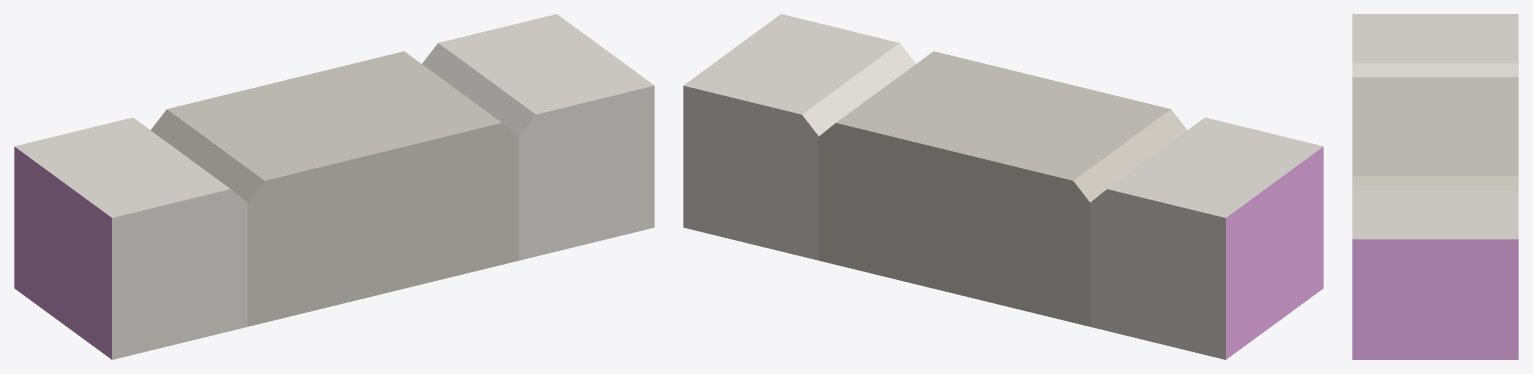
The model's file is Path_Edging_Stones_Straight_1x1.glb.
3 renders of one model, left to right at view 1: azimuth 30°, elevation 25°; view 2: azimuth 150°, elevation 25°; view 3: azimuth 270°, elevation 25°, orthographic. The views are drawn at different scales.
Visible parts, largest first — view 1: Path_Edging_Stones_Straight_1x1; view 2: Path_Edging_Stones_Straight_1x1; view 3: Path_Edging_Stones_Straight_1x1.
Part boxes in pixels (x1,y1,x2,y2): Path_Edging_Stones_Straight_1x1: [14, 14, 654, 359]; Path_Edging_Stones_Straight_1x1: [683, 14, 1323, 359]; Path_Edging_Stones_Straight_1x1: [1352, 14, 1518, 359].
Size of the model in its own units: 100 by 25 by 31.25.
